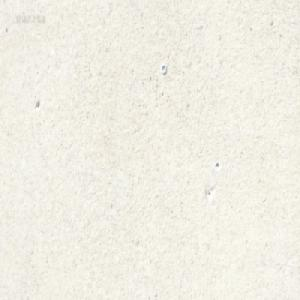Washer: (160, 64, 166, 74)
